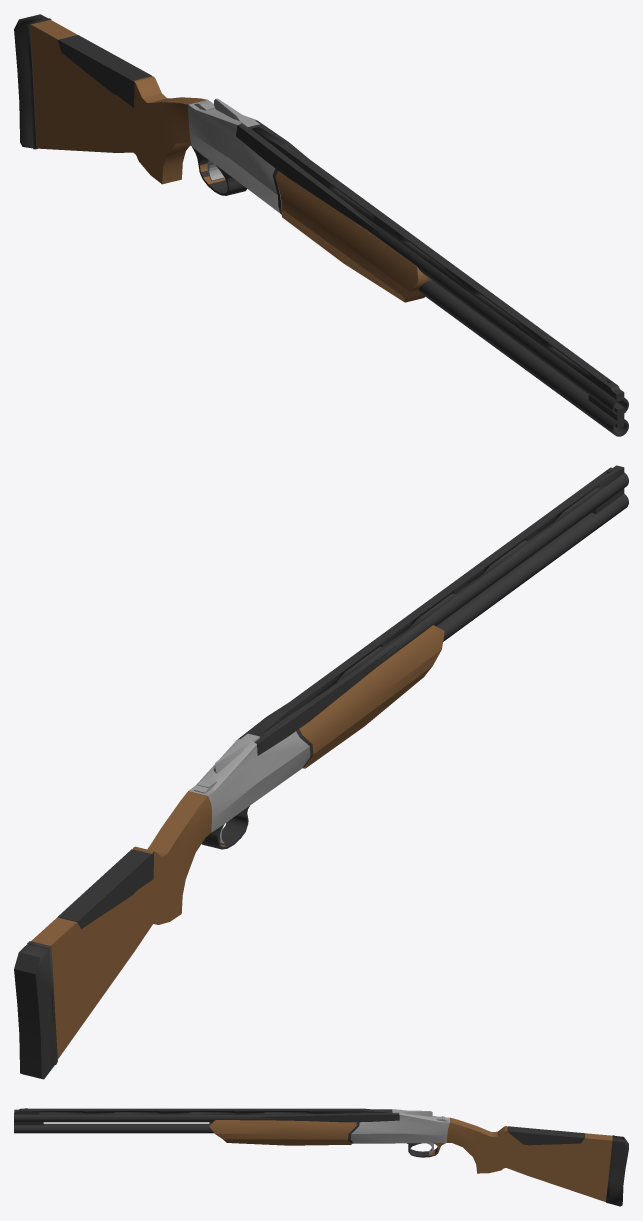
The model's file is benelli 828u.fbx.
3 renders of one model, top to bottom at view 1: azimuth 30°, elevation 25°; view 2: azimuth 150°, elevation 25°; view 3: azimuth 270°, elevation 25°, orthographic. The views are drawn at different scales.
Visible parts, largest first — view 1: benelli 828u; view 2: benelli 828u; view 3: benelli 828u.
Part boxes in pixels (x1,y1,x2,y2): benelli 828u: (14,14,628,436); benelli 828u: (14,465,628,1079); benelli 828u: (14,1108,628,1206).
Bounding box in the file's own units: 21.71 × 120 × 698.
